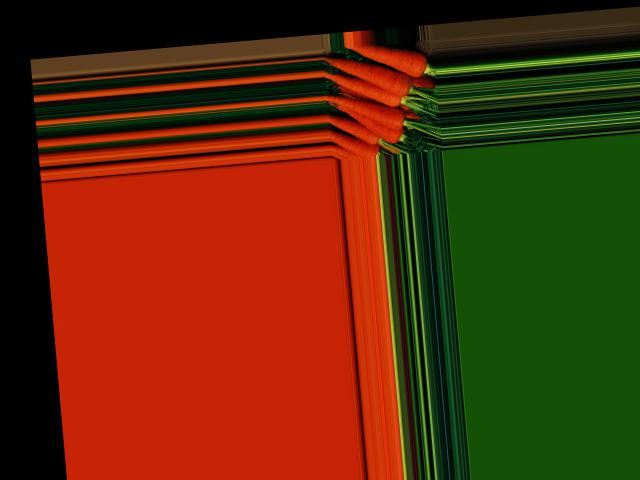carrot: (330, 113, 386, 151)
